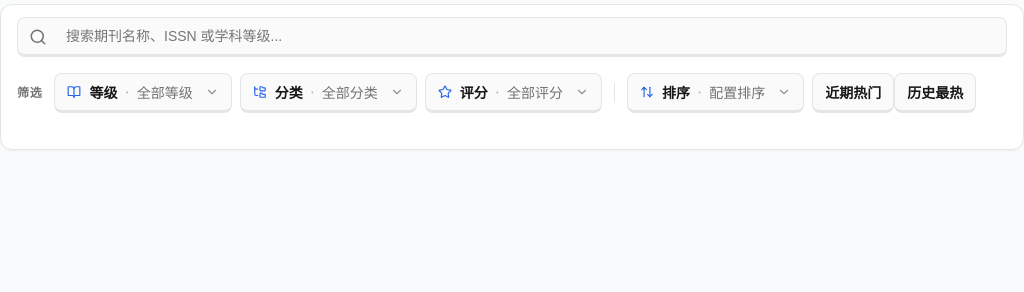
Test case: SearchAndFilter › Category Filter › should show subcategories when hovering over parent category
This screenshot has width=1024, height=292.
Click the text "全部分类": (350, 92) top-left (322, 82), bottom-right (378, 102)
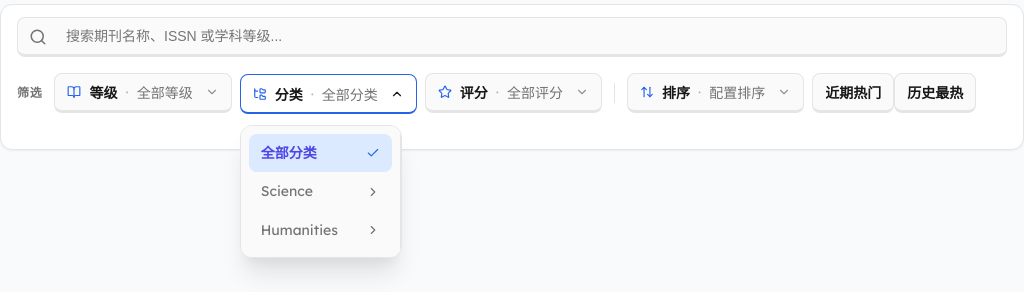
Hover over the text "Science": (287, 192) top-left (261, 180), bottom-right (313, 203)
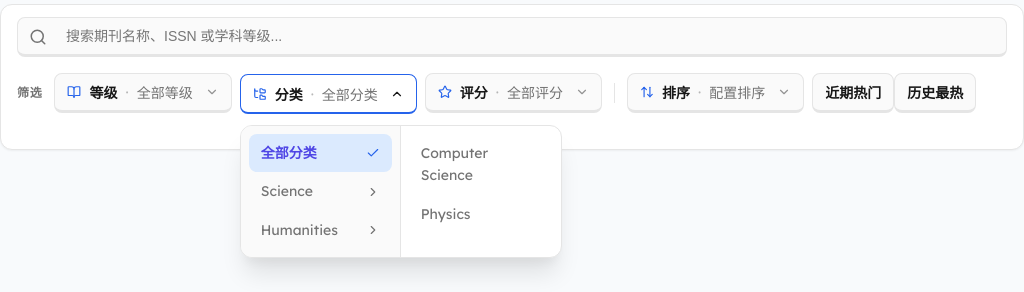
Check: the text "Computer Science" is shown, box top-left (421, 144), bottom-right (488, 184)
Check: the text "Physics" is shown, box top-left (421, 203), bottom-right (471, 225)
